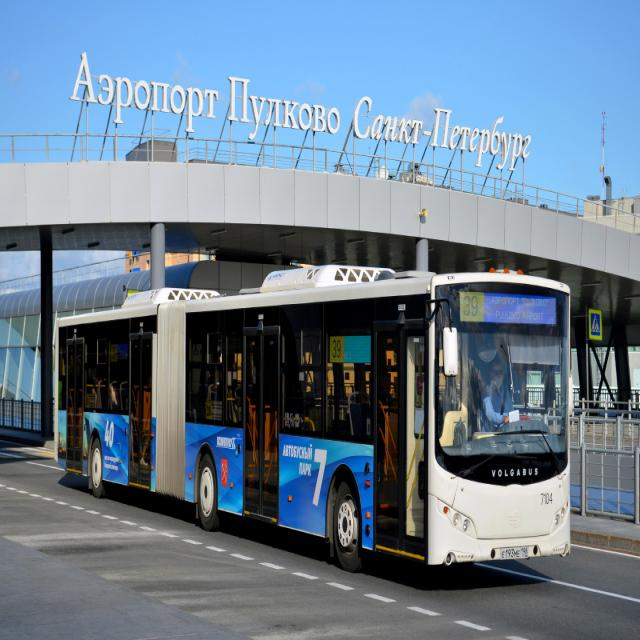number-of-bus: (462, 294, 481, 317), (331, 339, 344, 360)
